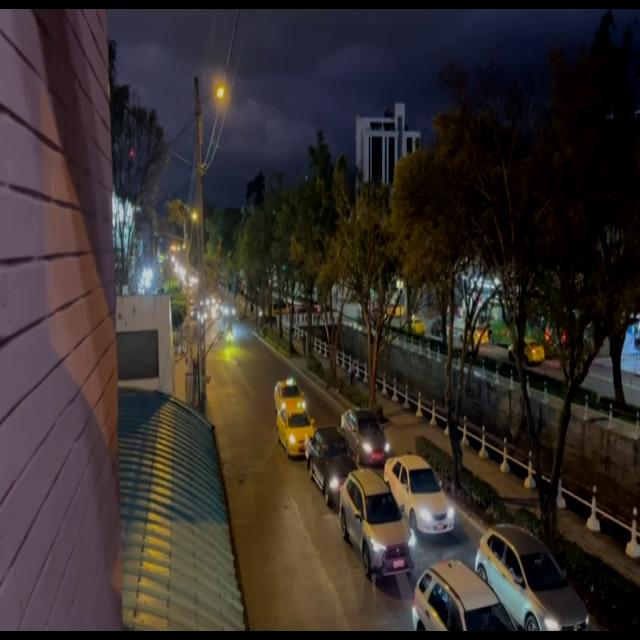CMT: (308, 428, 355, 504)
SUV: (341, 474, 409, 580)
